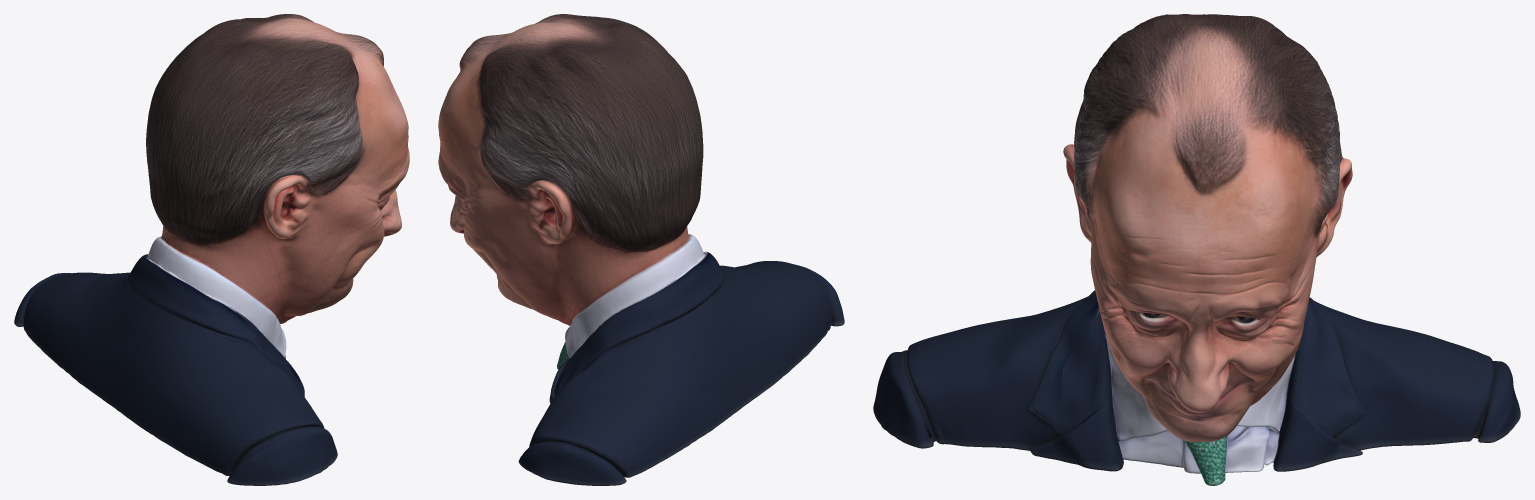
Rendered from merz.glb.
3 renders of one model, left to right at view 1: azimuth 30°, elevation 25°; view 2: azimuth 150°, elevation 25°; view 3: azimuth 270°, elevation 25°, orthographic. The views are drawn at different scales.
Parts seen in each view (by area): view 1: tripo_node_8c181d2c-5ad8-418c-a305-f64c744fb48a; view 2: tripo_node_8c181d2c-5ad8-418c-a305-f64c744fb48a; view 3: tripo_node_8c181d2c-5ad8-418c-a305-f64c744fb48a.
Part boxes in pixels (x1=…): tripo_node_8c181d2c-5ad8-418c-a305-f64c744fb48a: x1=14, y1=14, x2=409, y2=485; tripo_node_8c181d2c-5ad8-418c-a305-f64c744fb48a: x1=438, y1=14, x2=844, y2=485; tripo_node_8c181d2c-5ad8-418c-a305-f64c744fb48a: x1=873, y1=14, x2=1520, y2=485.
Bounding box in the file's own units: 0.6768 × 0.7512 × 1.
1 material, 1 textured.
